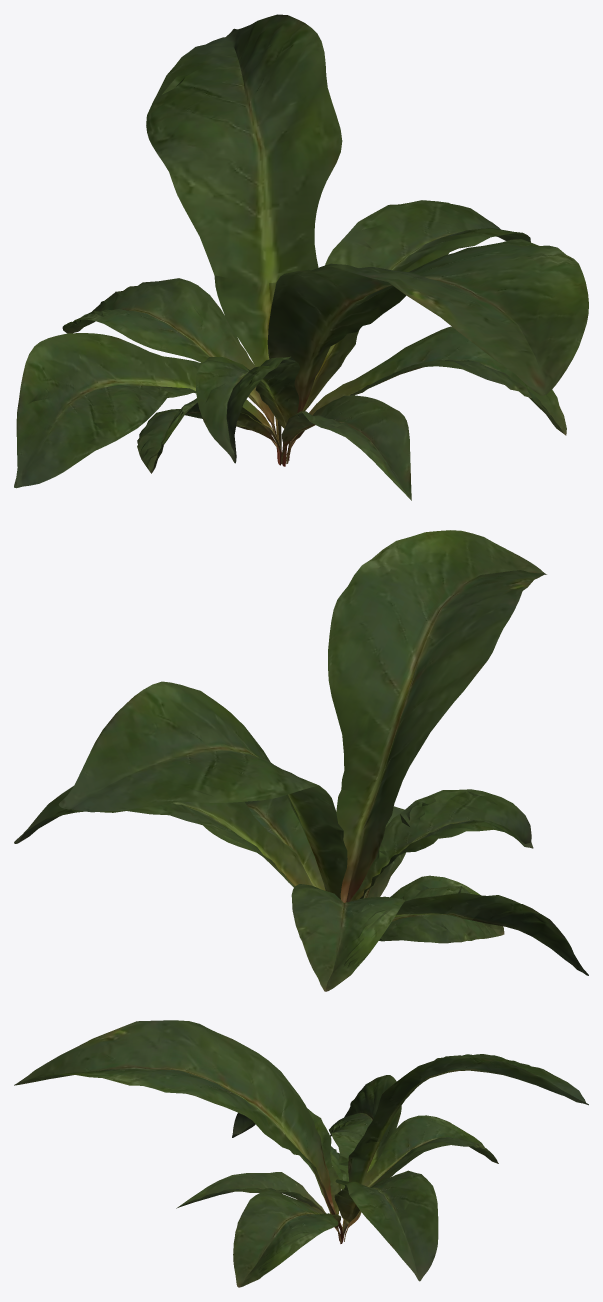
The model's file is tropical-bush.glb.
3 views of the same model, one above another, from view 1: azimuth 30°, elevation 25°; view 2: azimuth 150°, elevation 25°; view 3: azimuth 270°, elevation 25° (orthographic). The views are drawn at different scales.
Parts seen in each view (by area): view 1: tropical-bush; view 2: tropical-bush; view 3: tropical-bush.
Part boxes in pixels (x1,y1,x2,y2): tropical-bush: (14,14,588,500); tropical-bush: (14,530,588,991); tropical-bush: (14,1020,588,1287).
Size of the model in its own units: 0.896 by 0.4998 by 1.14.
1 material, 1 textured.
